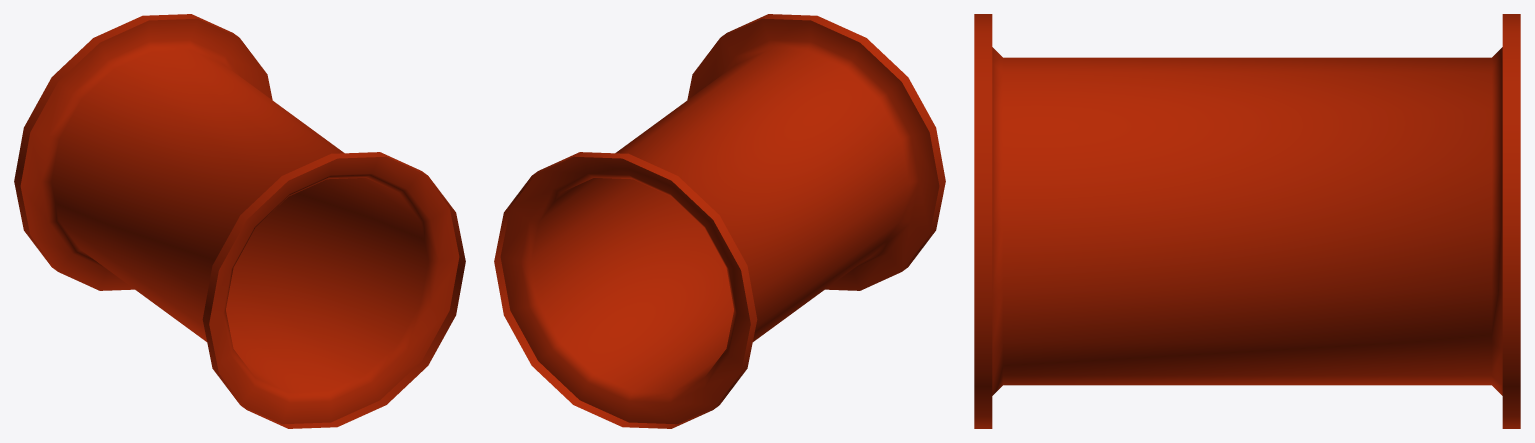
File: sPipe_03_LOD0.FBX
3 renders of one model, left to right at view 1: azimuth 30°, elevation 25°; view 2: azimuth 150°, elevation 25°; view 3: azimuth 270°, elevation 25°, orthographic. The views are drawn at different scales.
Visible parts, largest first — view 1: Pipe_up1_003_Low_LOD0; view 2: Pipe_up1_003_Low_LOD0; view 3: Pipe_up1_003_Low_LOD0.
Boxes of the visible parts, x1,y1,x2,y2 form: Pipe_up1_003_Low_LOD0: (14, 14, 465, 428); Pipe_up1_003_Low_LOD0: (494, 14, 945, 428); Pipe_up1_003_Low_LOD0: (974, 14, 1520, 428).
Size of the model in its own units: 19 by 19 by 25.
